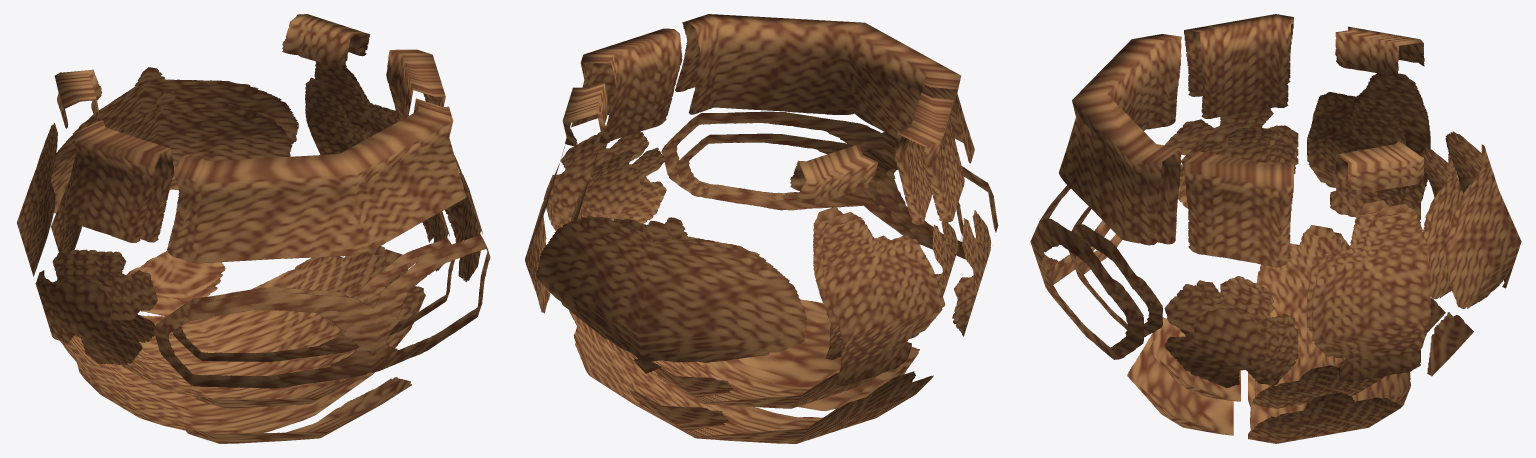
The model's file is Vaso1.fbx.
3 renders of one model, left to right at view 1: azimuth 30°, elevation 25°; view 2: azimuth 150°, elevation 25°; view 3: azimuth 270°, elevation 25°, orthographic.
Visible parts, largest first — view 1: Cylinder.001; view 2: Cylinder.001; view 3: Cylinder.001.
Boxes of the visible parts, left/top/right/bottom form: Cylinder.001: left=17, top=14, right=490, bottom=443; Cylinder.001: left=525, top=14, right=998, bottom=443; Cylinder.001: left=1030, top=14, right=1521, bottom=443.
Bounding box in the file's own units: 402 × 297 × 402.
